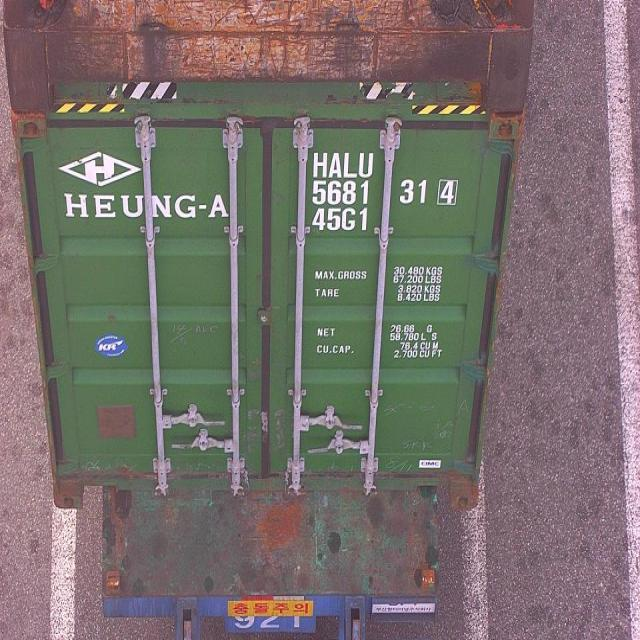ISO: (313, 204, 372, 232)
container_number: (314, 152, 458, 206)
